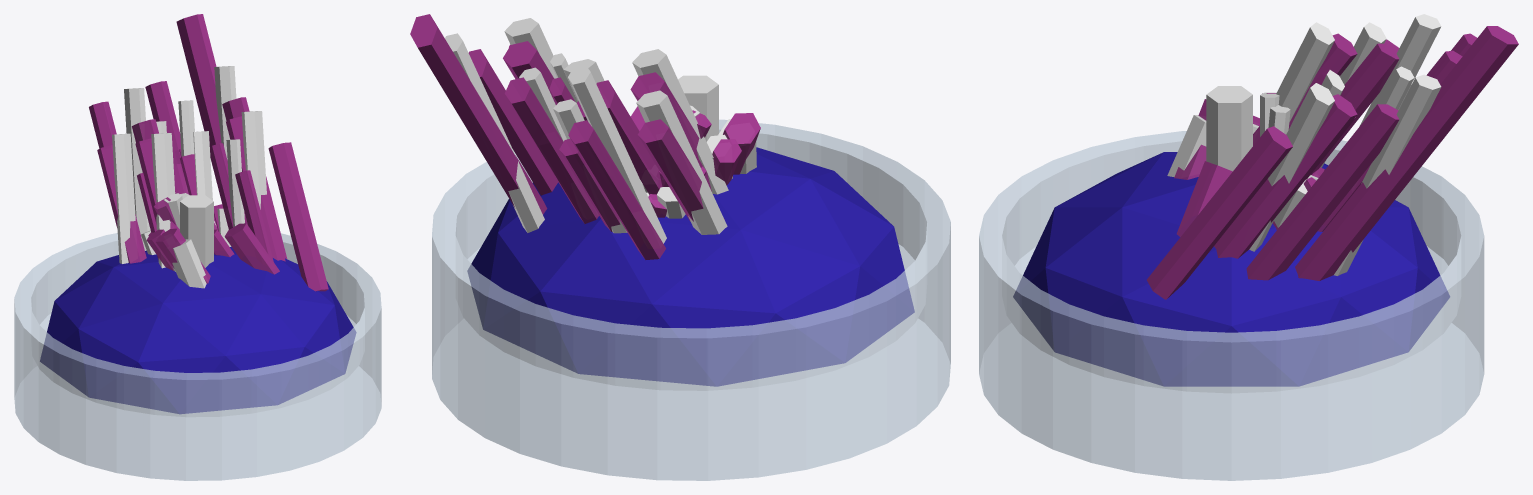
The model's file is cristal5.glb.
The picture shows the model from 3 angles, left to right: view 1: azimuth 30°, elevation 25°; view 2: azimuth 150°, elevation 25°; view 3: azimuth 270°, elevation 25°; orthographic projection. The views are drawn at different scales.
Visible parts, largest first — view 1: Cilindro, Cilindro.053, Esfera geodésica, Cilindro.040, Cilindro.044, Cilindro.033, Cilindro.001, Cilindro.055, Cilindro.039, Cilindro.057, Cilindro.032, Cilindro.028 (+16 smaller); view 2: Cilindro, Cilindro.053, Esfera geodésica, Cilindro.044, Cilindro.054, Cilindro.059, Cilindro.055, Cilindro.046, Cilindro.032, Cilindro.033, Cilindro.045, Cilindro.057 (+10 smaller); view 3: Cilindro, Cilindro.053, Esfera geodésica, Cilindro.044, Cilindro.046, Cilindro.040, Cilindro.038, Cilindro.001, Cilindro.045, Cilindro.039, Cilindro.057, Cilindro.056 (+8 smaller).
Part boxes in pixels (box(x1,y1,x2,y2)): Cilindro: box(14, 233, 381, 480); Cilindro.053: box(14, 233, 381, 480); Esfera geodésica: box(40, 246, 356, 413); Cilindro.040: box(268, 142, 328, 291); Cilindro.044: box(176, 14, 247, 224); Cilindro.033: box(112, 133, 135, 263); Cilindro.001: box(180, 195, 213, 267); Cilindro.055: box(124, 88, 150, 250); Cilindro.039: box(241, 111, 266, 209); Cilindro.057: box(151, 133, 175, 268); Cilindro.032: box(97, 145, 146, 263); Cilindro.028: box(224, 223, 279, 274); Cilindro: box(432, 120, 950, 480); Cilindro.053: box(432, 120, 950, 480); Esfera geodésica: box(467, 147, 914, 386); Cilindro.044: box(410, 14, 547, 214); Cilindro.054: box(568, 120, 665, 259); Cilindro.059: box(504, 77, 599, 223); Cilindro.055: box(568, 64, 666, 243); Cilindro.046: box(468, 49, 558, 195); Cilindro.032: box(637, 119, 724, 221); Cilindro.033: box(636, 90, 727, 234); Cilindro.045: box(445, 33, 544, 232); Cilindro.057: box(632, 49, 728, 194); Cilindro: box(979, 131, 1483, 480); Cilindro.053: box(979, 131, 1483, 480); Esfera geodésica: box(1013, 152, 1449, 386); Cilindro.044: box(1295, 26, 1518, 280); Cilindro.046: box(1246, 104, 1399, 280); Cilindro.040: box(1147, 126, 1292, 299); Cilindro.038: box(1214, 94, 1357, 258); Cilindro.001: box(1206, 86, 1252, 171); Cilindro.045: box(1334, 74, 1441, 275); Cilindro.039: box(1249, 83, 1334, 251); Cilindro.057: box(1276, 22, 1334, 122); Cilindro.056: box(1311, 43, 1399, 174).
Size of the model in its own units: 2 by 1.79 by 2.14.
